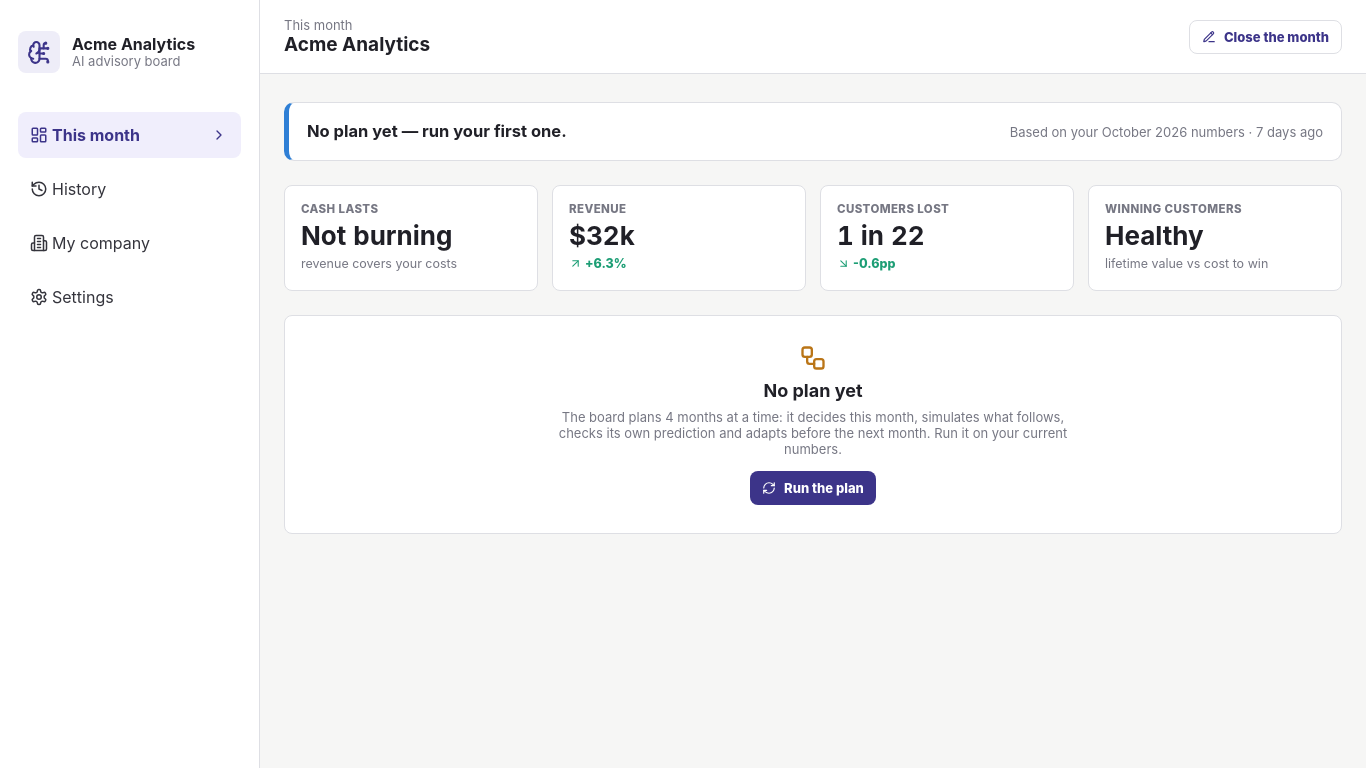
Test: rule 1 — every failure state gets its one notice, with the action › start failed: one notice with Retry only, nothing invented
Click the button "Run the plan" at (813, 488), box [750,471,876,505]
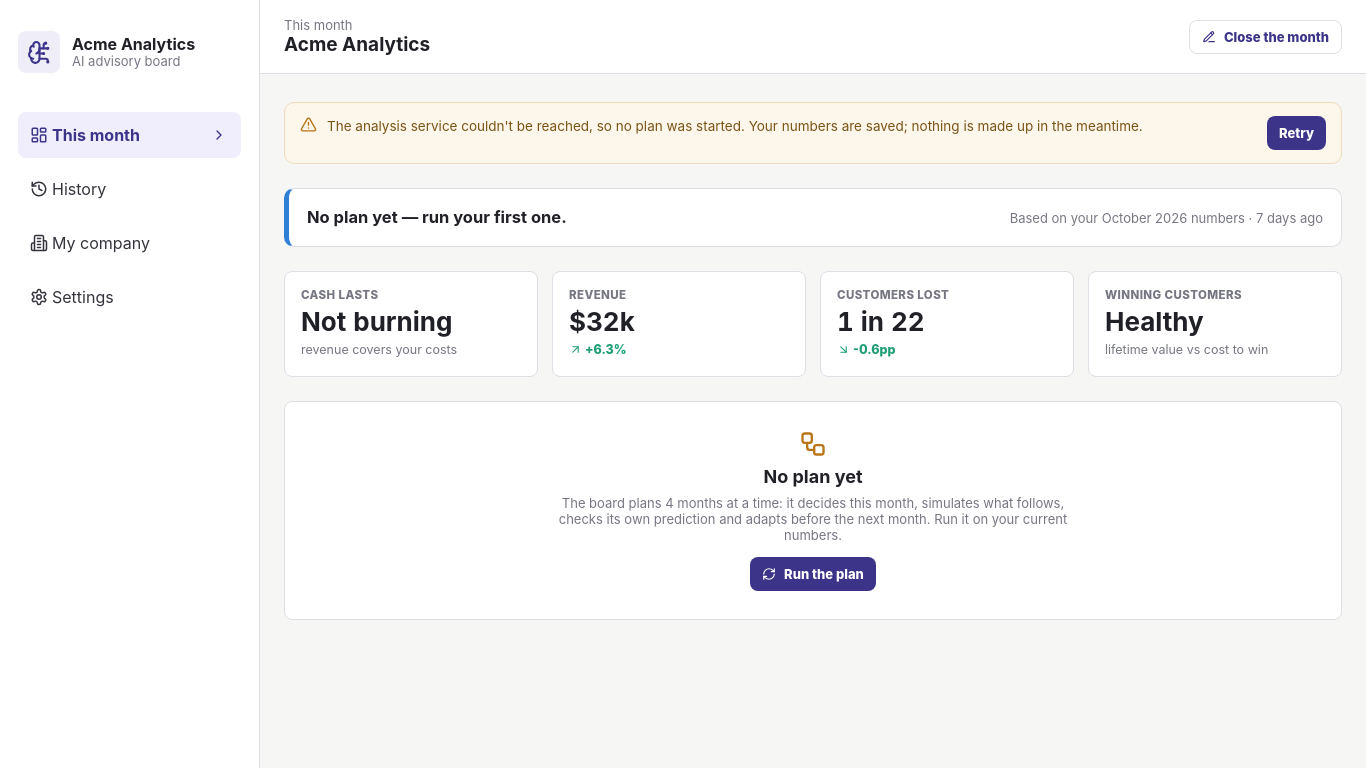
Expected: the number of elements with class "banner" is 1, [284,102,1342,164]
Expected: the element with class "banner" shows "couldn't be reached", [327,118,1143,134]
Expected: the element with class "banner" shows "Retry", [1267,116,1326,150]
